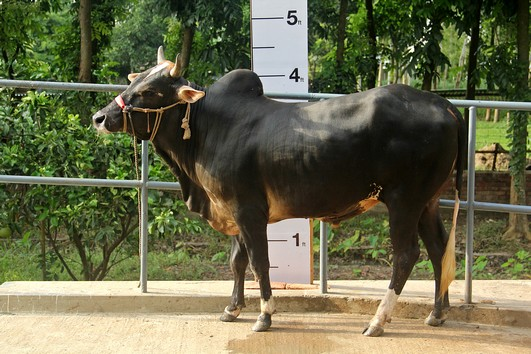cow: (82, 41, 476, 345)
